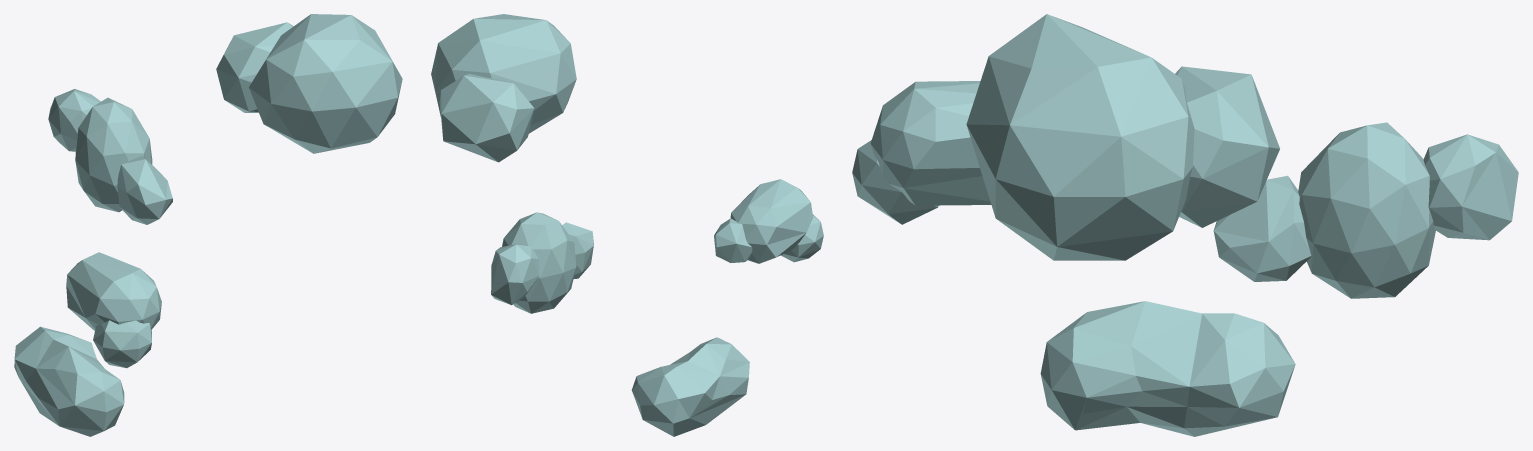
The model's file is Clouds.fbx.
The picture shows the model from 3 angles, left to right: view 1: azimuth 30°, elevation 25°; view 2: azimuth 150°, elevation 25°; view 3: azimuth 270°, elevation 25°; orthographic projection. The views are drawn at different scales.
Parts seen in each view (by area): view 1: Cloud_4, Cloud_2, Cloud_1, Cloud_3; view 2: Cloud_4, Cloud_1, Cloud_2, Cloud_3; view 3: Cloud_4, Cloud_2, Cloud_1, Cloud_3.
Part boxes in pixels (bbox=[...]): Cloud_4: bbox=[216, 14, 402, 153]; Cloud_2: bbox=[48, 89, 172, 224]; Cloud_1: bbox=[14, 326, 124, 436]; Cloud_3: bbox=[66, 252, 161, 368]; Cloud_4: bbox=[431, 14, 576, 162]; Cloud_1: bbox=[631, 337, 749, 436]; Cloud_2: bbox=[491, 212, 593, 313]; Cloud_3: bbox=[714, 179, 823, 263]; Cloud_4: bbox=[966, 14, 1279, 260]; Cloud_2: bbox=[1213, 122, 1518, 298]; Cloud_1: bbox=[1040, 301, 1295, 436]; Cloud_3: bbox=[852, 81, 991, 224].
Bounding box in the file's own units: 997 × 970 × 1021.
